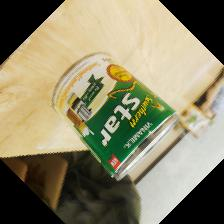NSPN_Lon: (51, 50, 178, 182)
